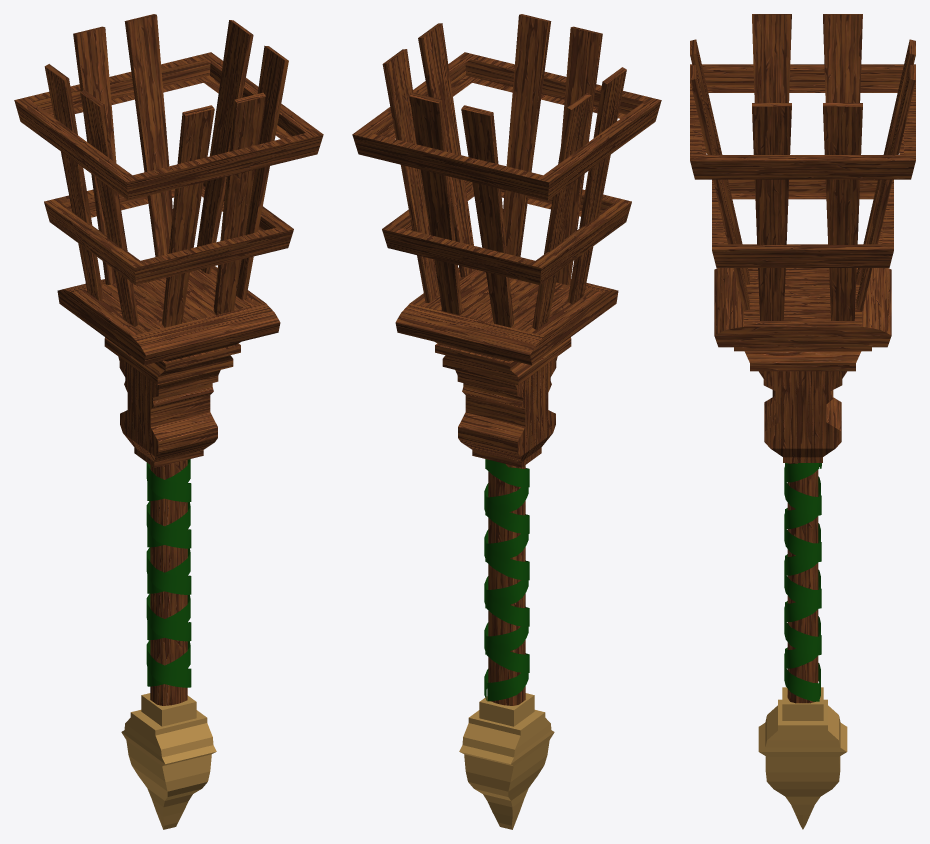
File: torch.fbx
3 views of the same model, side by side, from view 1: azimuth 30°, elevation 25°; view 2: azimuth 150°, elevation 25°; view 3: azimuth 270°, elevation 25° (orthographic).
Visible parts, largest first — view 1: torch; view 2: torch; view 3: torch.
Boxes of the visible parts, x1=… form: torch: x1=14, y1=14, x2=323, y2=829; torch: x1=352, y1=14, x2=661, y2=829; torch: x1=690, y1=14, x2=915, y2=829.
Bounding box in the file's own units: 128 × 476 × 127.
